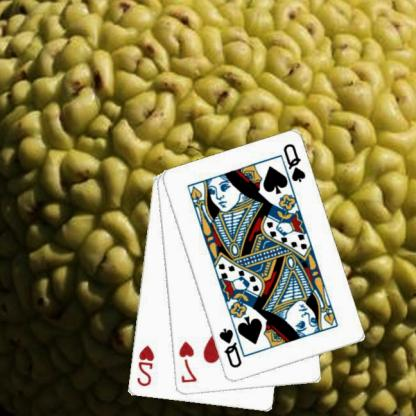2H: (136, 343, 158, 388)
7H: (178, 338, 200, 384)
QS: (218, 325, 245, 370), (282, 141, 309, 184)
